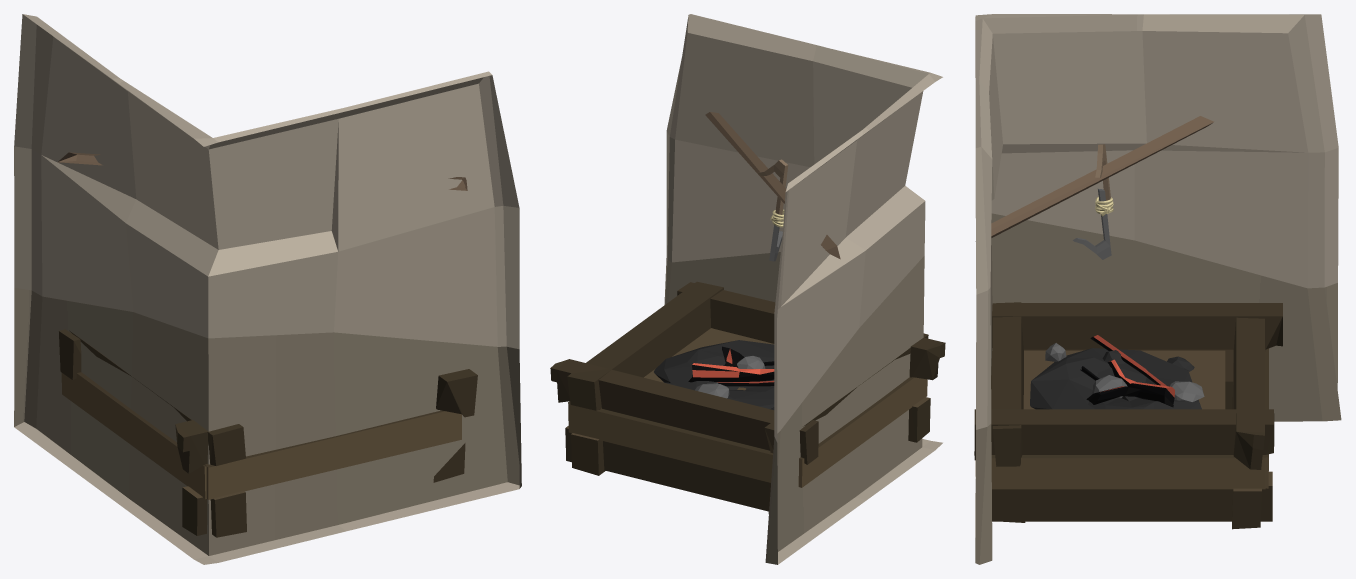
File: EA03_Prop_House_Stove_01b.glb
The picture shows the model from 3 angles, left to right: view 1: azimuth 30°, elevation 25°; view 2: azimuth 150°, elevation 25°; view 3: azimuth 270°, elevation 25°; orthographic projection. The views are drawn at different scales.
Visible parts, largest first — view 1: EA03_Prop_House_Stove_01b; view 2: EA03_Prop_House_Stove_01b; view 3: EA03_Prop_House_Stove_01b.
Boxes of the visible parts, x1,y1,x2,y2 form: EA03_Prop_House_Stove_01b: (14,14,521,564); EA03_Prop_House_Stove_01b: (550,14,945,564); EA03_Prop_House_Stove_01b: (974,14,1341,564).
Size of the model in its own units: 2.76 by 3.33 by 2.74.
Materials: 1 (1 with a texture image).
